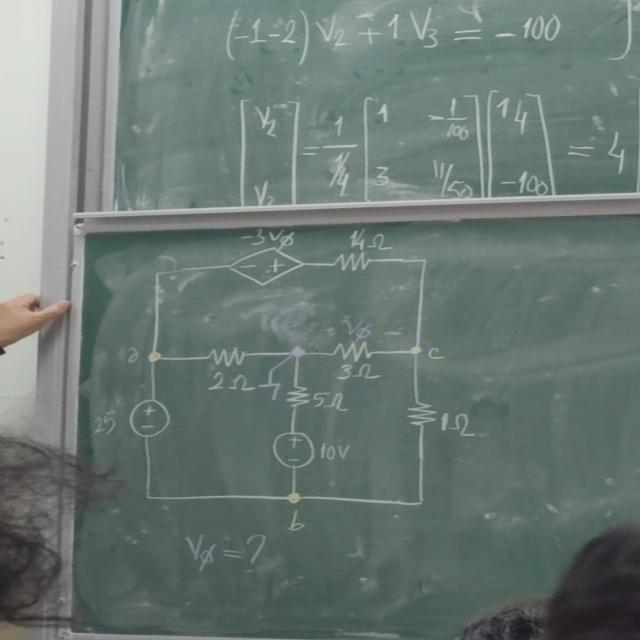image: (114, 226, 485, 524)
math: (228, 83, 640, 199)
